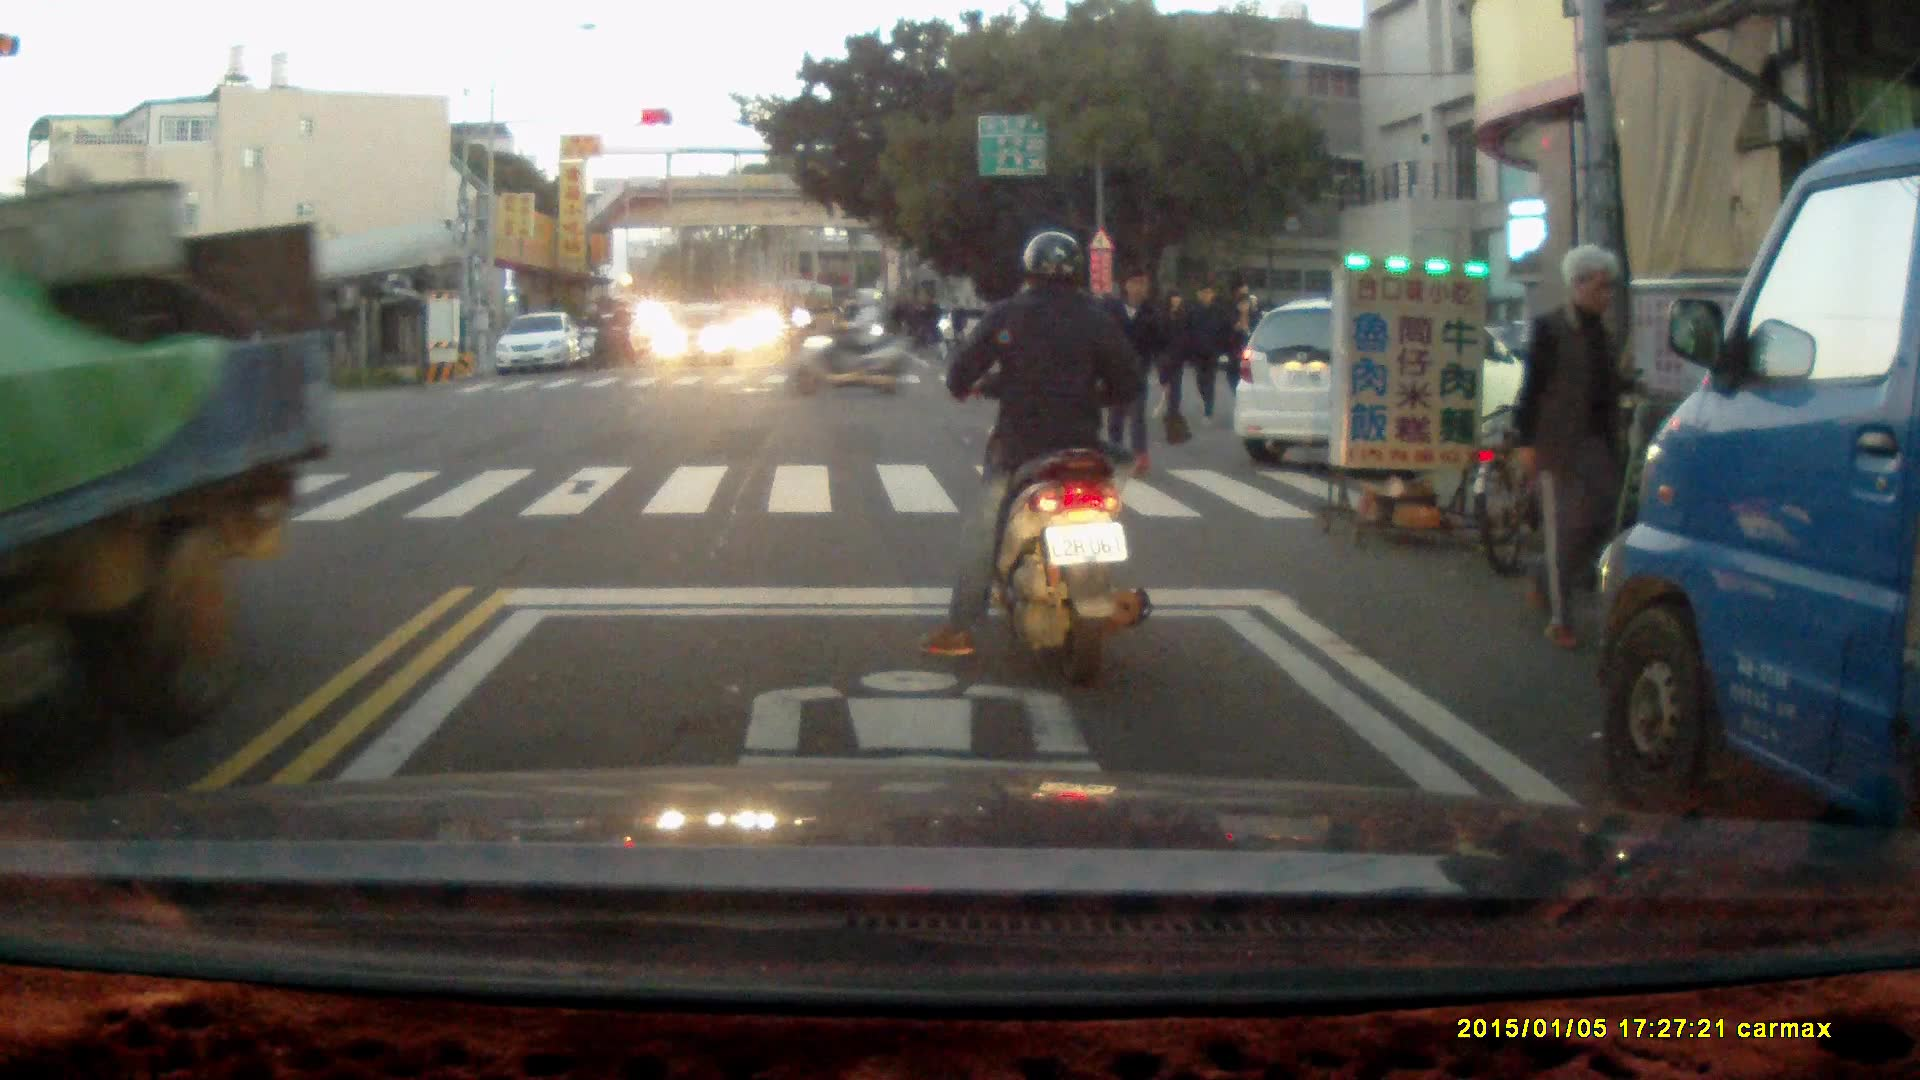pedestrian: (1512, 241, 1638, 648), (1091, 261, 1174, 478), (1153, 282, 1193, 425), (1183, 277, 1224, 418), (1227, 292, 1264, 414)
rider: (917, 228, 1151, 693), (793, 282, 906, 402), (577, 301, 612, 372), (601, 296, 636, 366)
vehicle: (1596, 120, 1920, 901), (1, 174, 327, 737), (1231, 303, 1533, 462), (493, 311, 584, 378), (657, 299, 745, 368)
